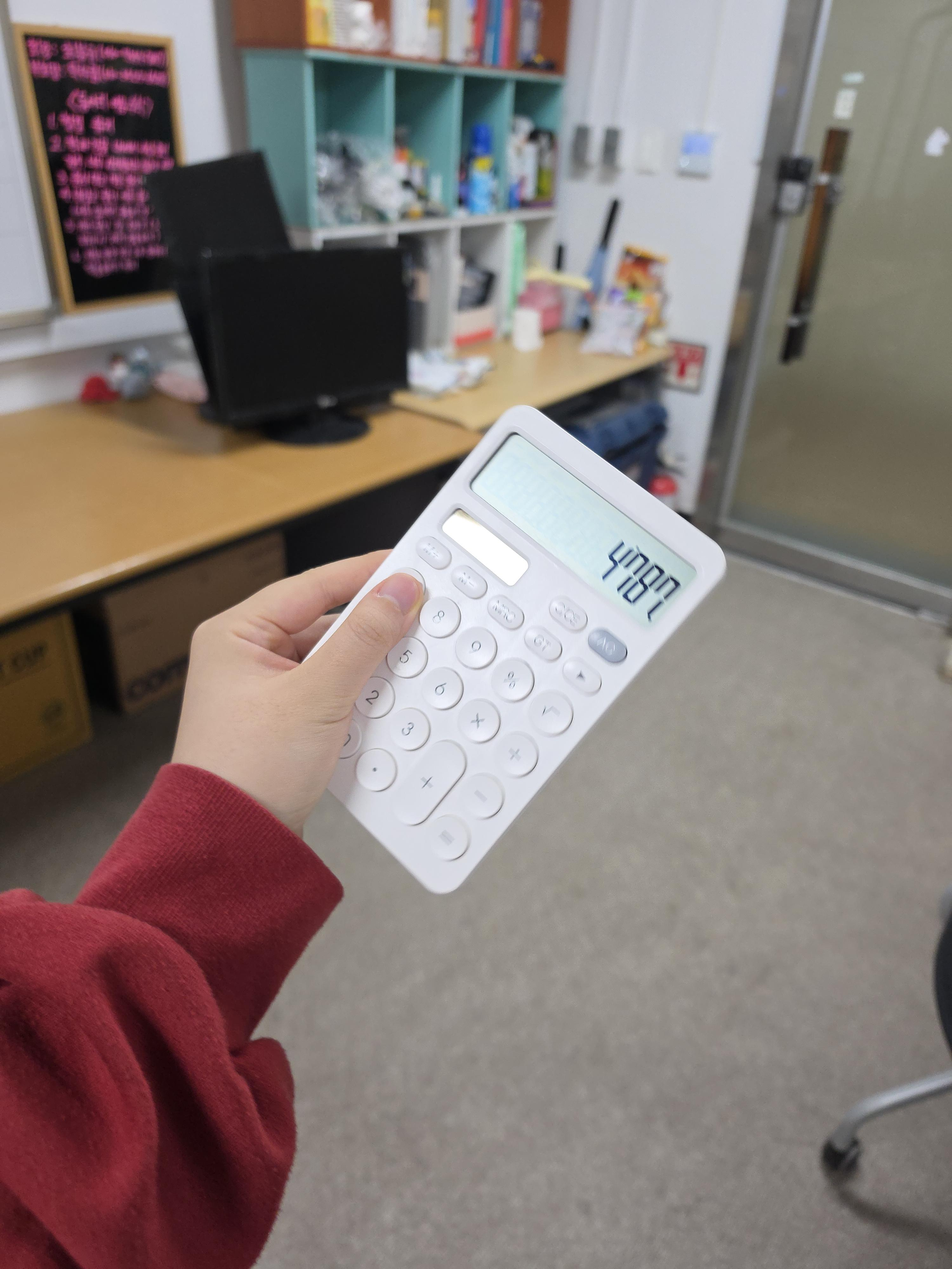calculator: (303, 405, 729, 896)
